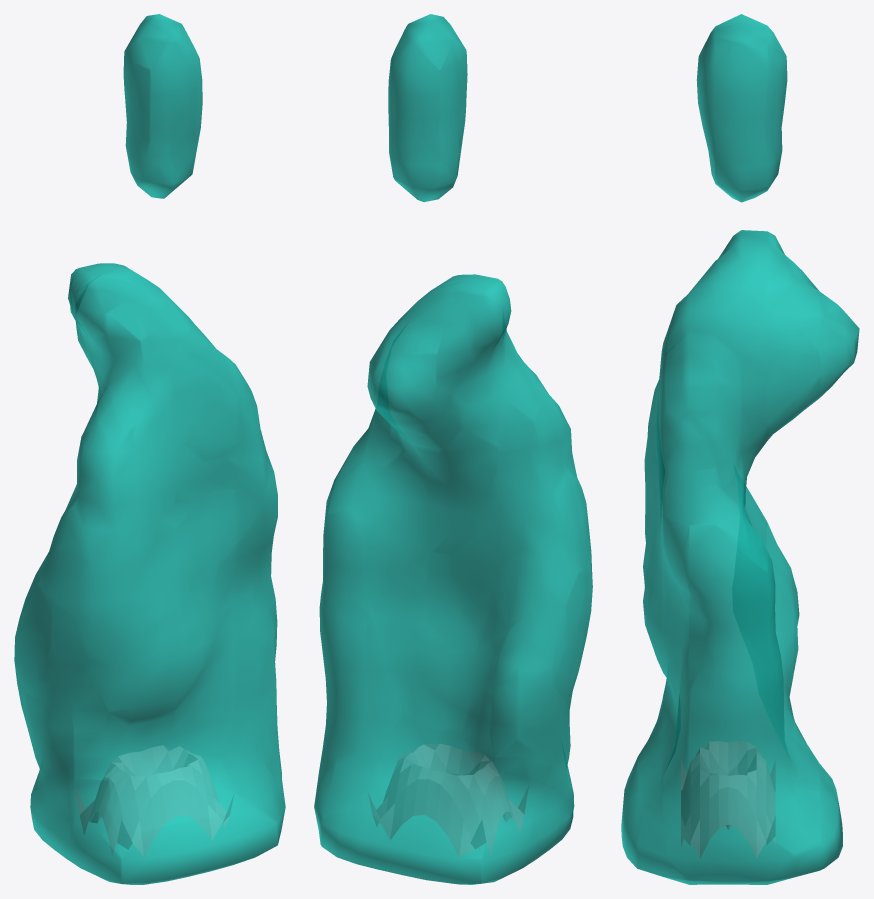
3 renders of one model, left to right at view 1: azimuth 30°, elevation 25°; view 2: azimuth 150°, elevation 25°; view 3: azimuth 270°, elevation 25°, orthographic.
Visible parts, largest first — view 1: Liquid_Domain, グリッド; view 2: Liquid_Domain, グリッド; view 3: Liquid_Domain, グリッド.
Part boxes in pixels (bbox=[...]): Liquid_Domain: bbox=[14, 14, 285, 884]; グリッド: bbox=[75, 745, 233, 856]; Liquid_Domain: bbox=[314, 14, 592, 884]; グリッド: bbox=[368, 744, 528, 856]; Liquid_Domain: bbox=[621, 14, 859, 884]; グリッド: bbox=[681, 741, 775, 857].
Size of the model in its own units: 0.9143 by 2.95 by 0.755.
